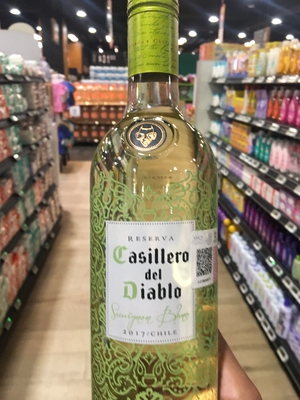casillero del diablo sauvignon blanc: (86, 18, 235, 400)
